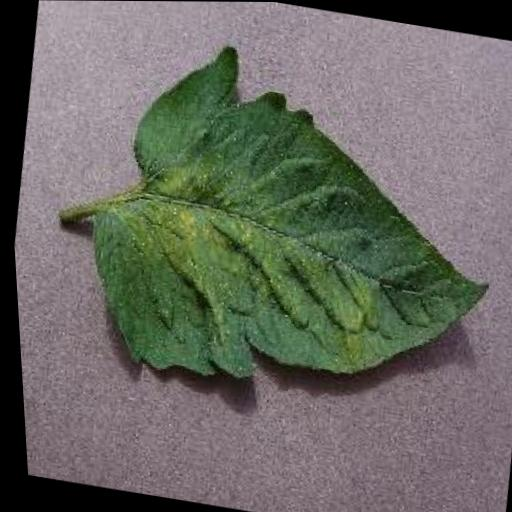Spider Mites: (62, 26, 512, 425)
